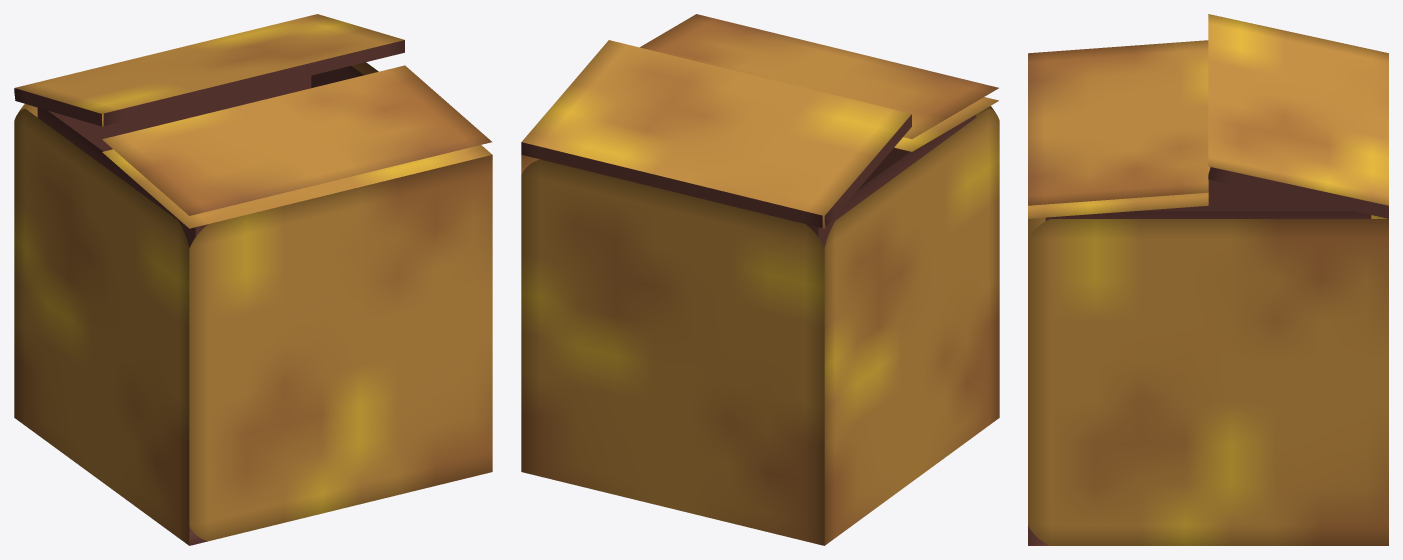
The model's file is Boxes_TipoA.fbx.
The picture shows the model from 3 angles, left to right: view 1: azimuth 30°, elevation 25°; view 2: azimuth 150°, elevation 25°; view 3: azimuth 270°, elevation 25°; orthographic projection. The views are drawn at different scales.
Visible parts, largest first — view 1: Cube.035, Cube.036, Cube.037; view 2: Cube.035, Cube.037, Cube.036; view 3: Cube.035, Cube.036, Cube.037.
Boxes of the visible parts, bbox=[...] form: Cube.035: bbox=[14, 62, 492, 545]; Cube.036: bbox=[102, 65, 492, 228]; Cube.037: bbox=[14, 14, 404, 126]; Cube.035: bbox=[521, 106, 999, 545]; Cube.037: bbox=[521, 40, 911, 228]; Cube.036: bbox=[640, 14, 998, 151]; Cube.035: bbox=[1028, 180, 1388, 545]; Cube.036: bbox=[1028, 40, 1208, 218]; Cube.037: bbox=[1208, 14, 1388, 218].
Size of the model in its own units: 50 by 58 by 50.
